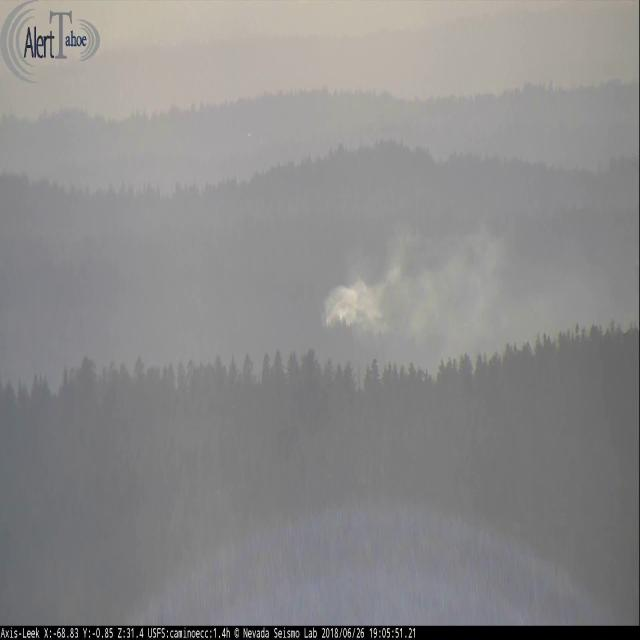smoke: (323, 216, 640, 366)
